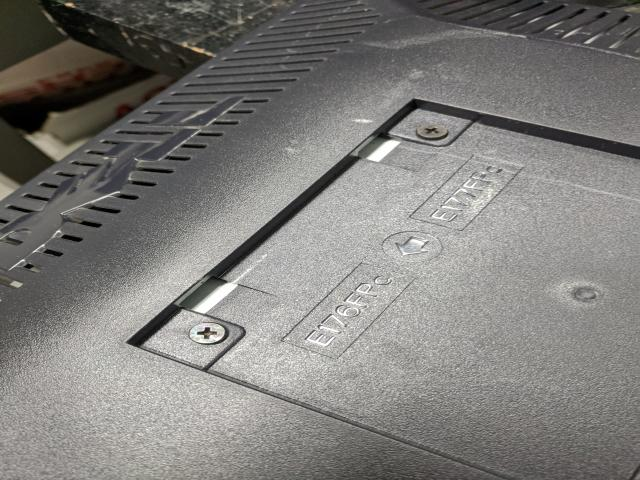CRS: (190, 321, 232, 346), (414, 124, 451, 142)
